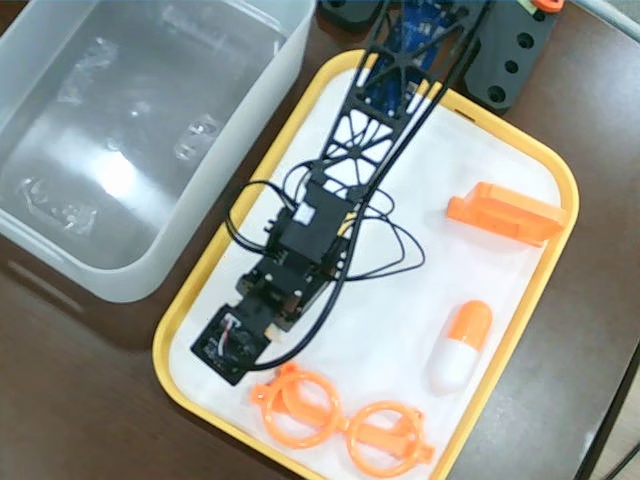pill: (427, 299, 493, 395)
